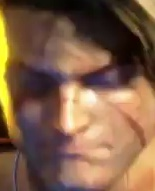kevin: (8, 8, 148, 190)
